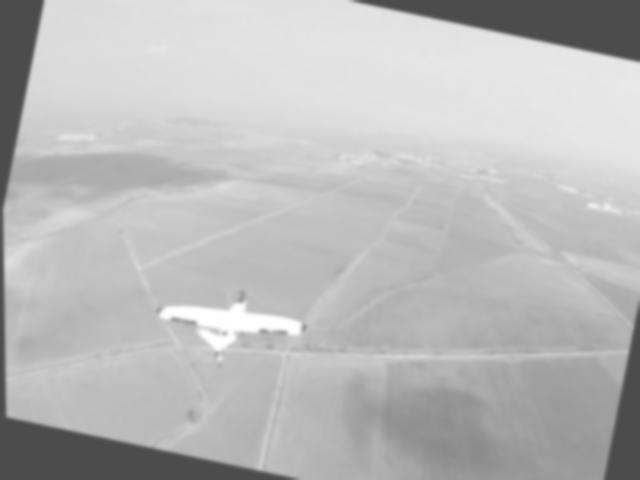hedef: (141, 262, 319, 390)
